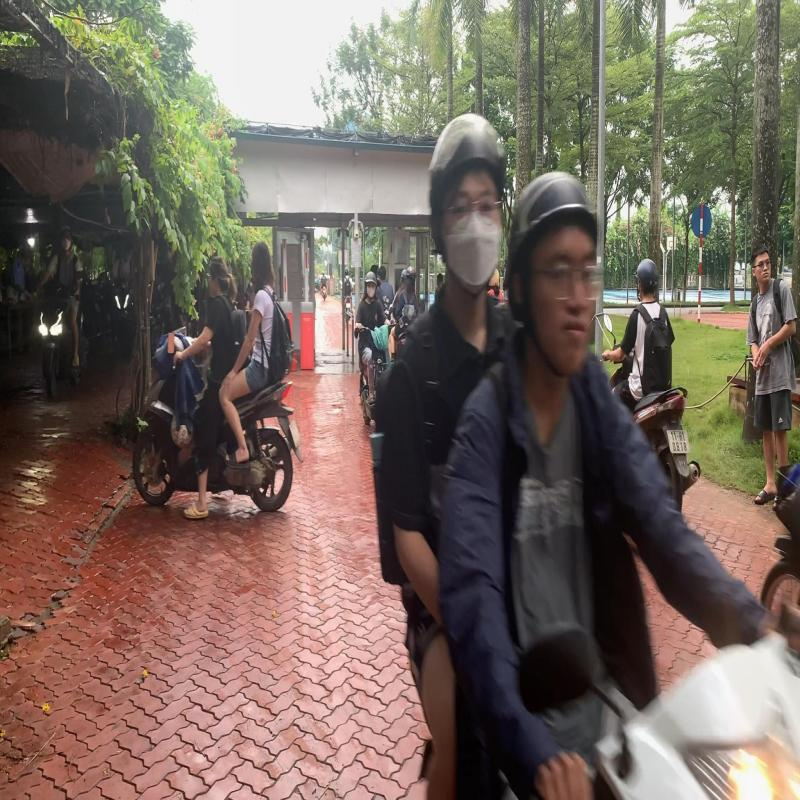nohelmet: (251, 240, 272, 288)
